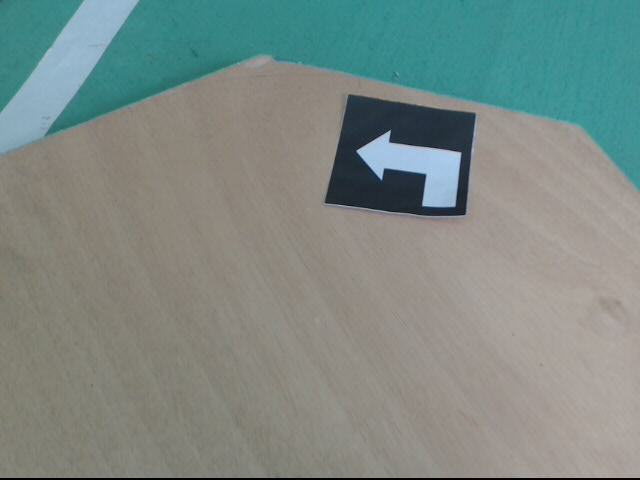left: (322, 90, 478, 219)
